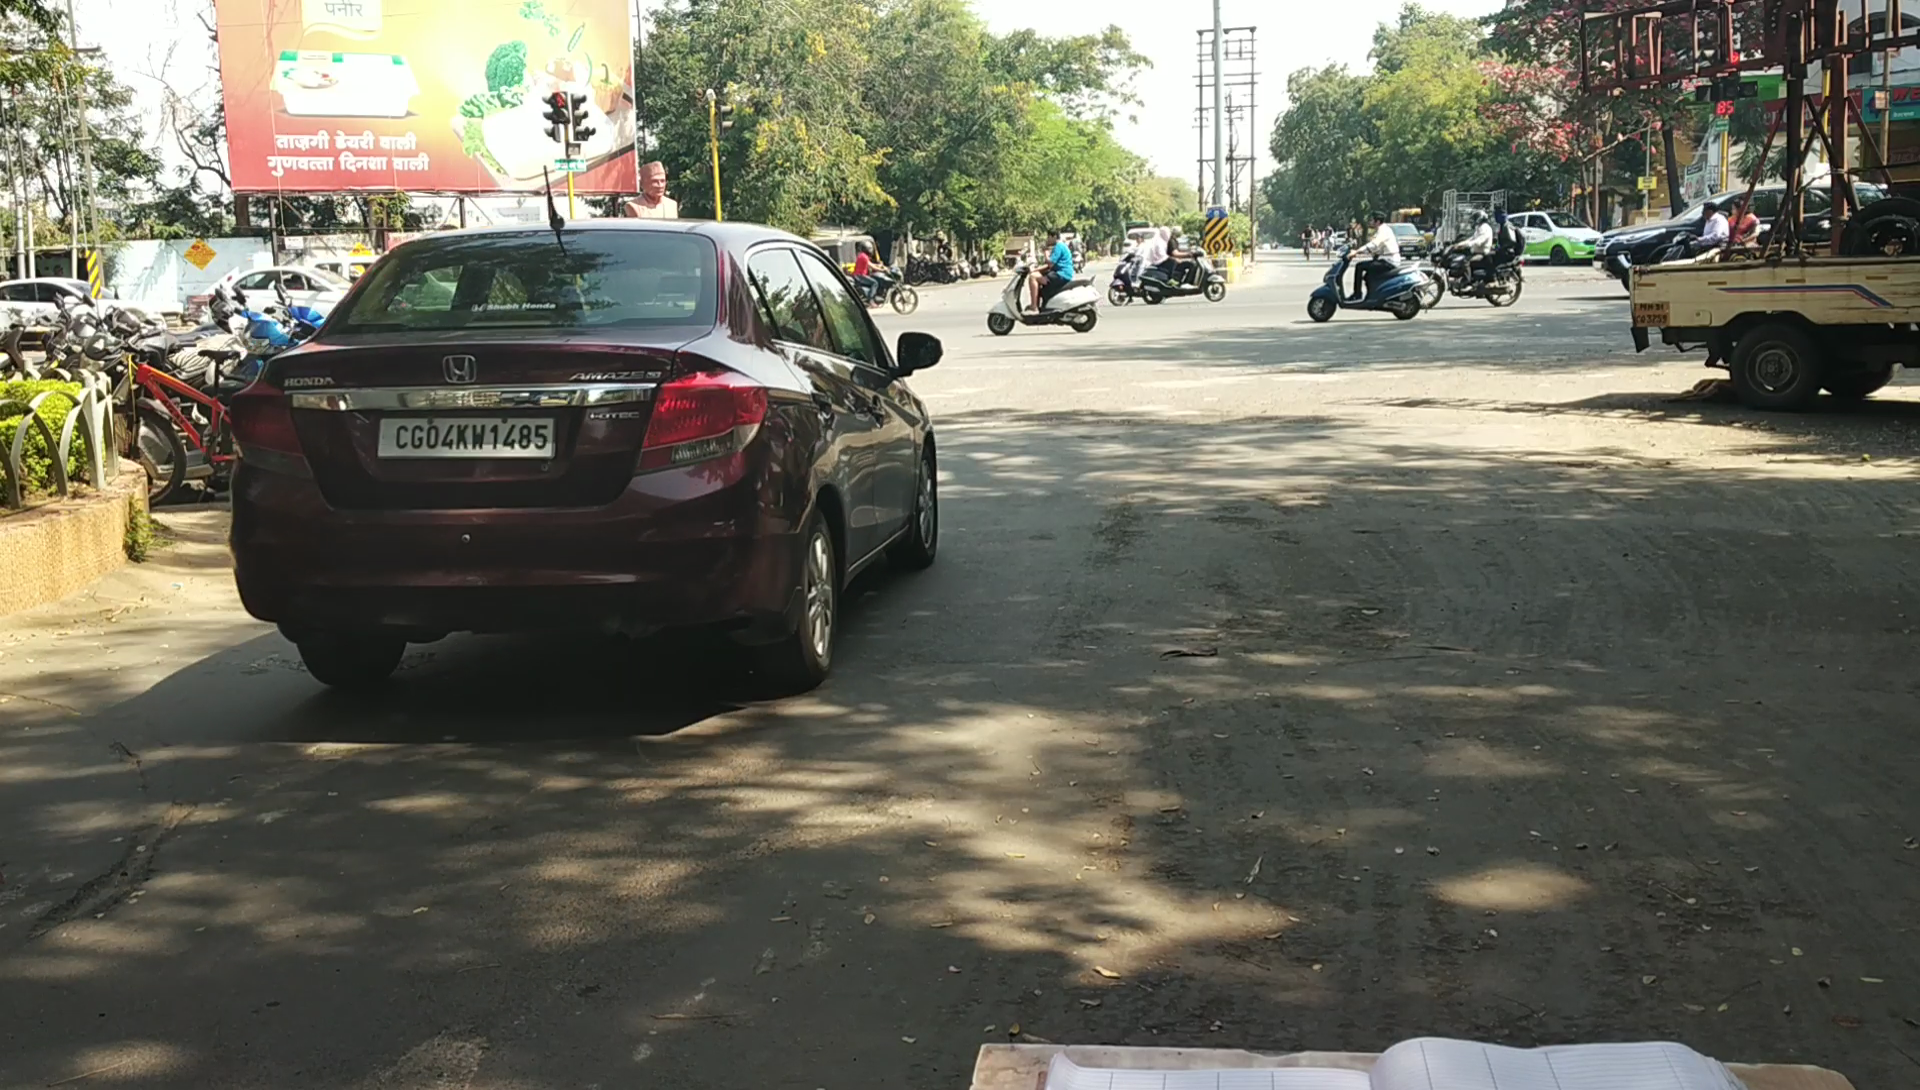car: (224, 202, 991, 714)
numplate: (375, 414, 554, 477)
